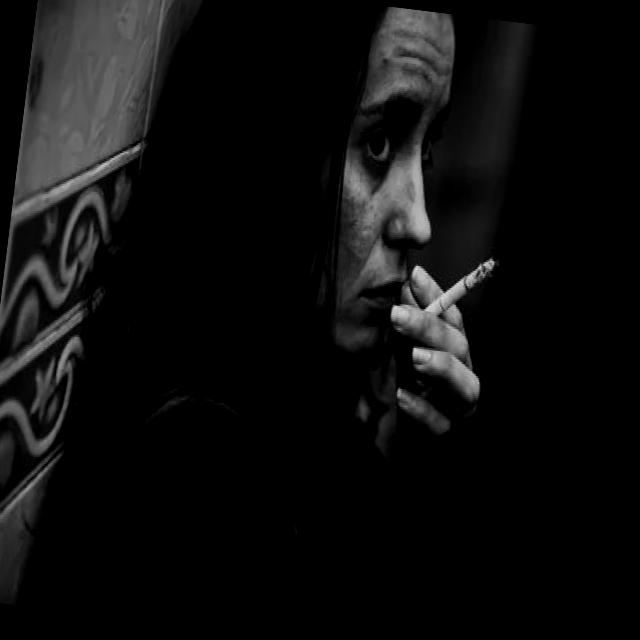smoke: (410, 238, 508, 332)
